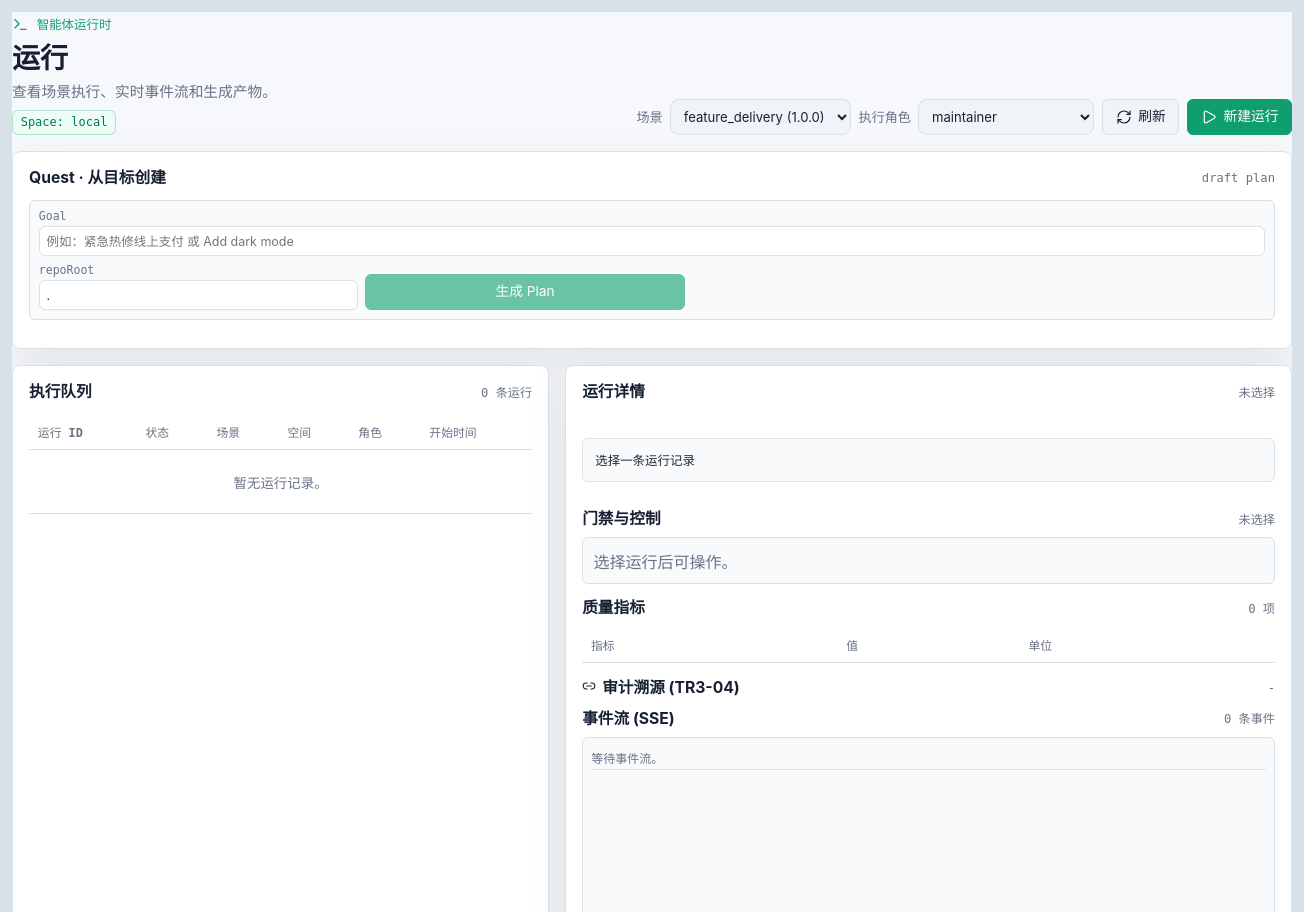
RunsPage › projects AGENT_TEMPLATE_NOT_APPROVED on create failure (P20)
This screenshot has width=1304, height=912.
Click the button with test id "runs-create".
click(1240, 117)  # box [1187,99,1292,135]
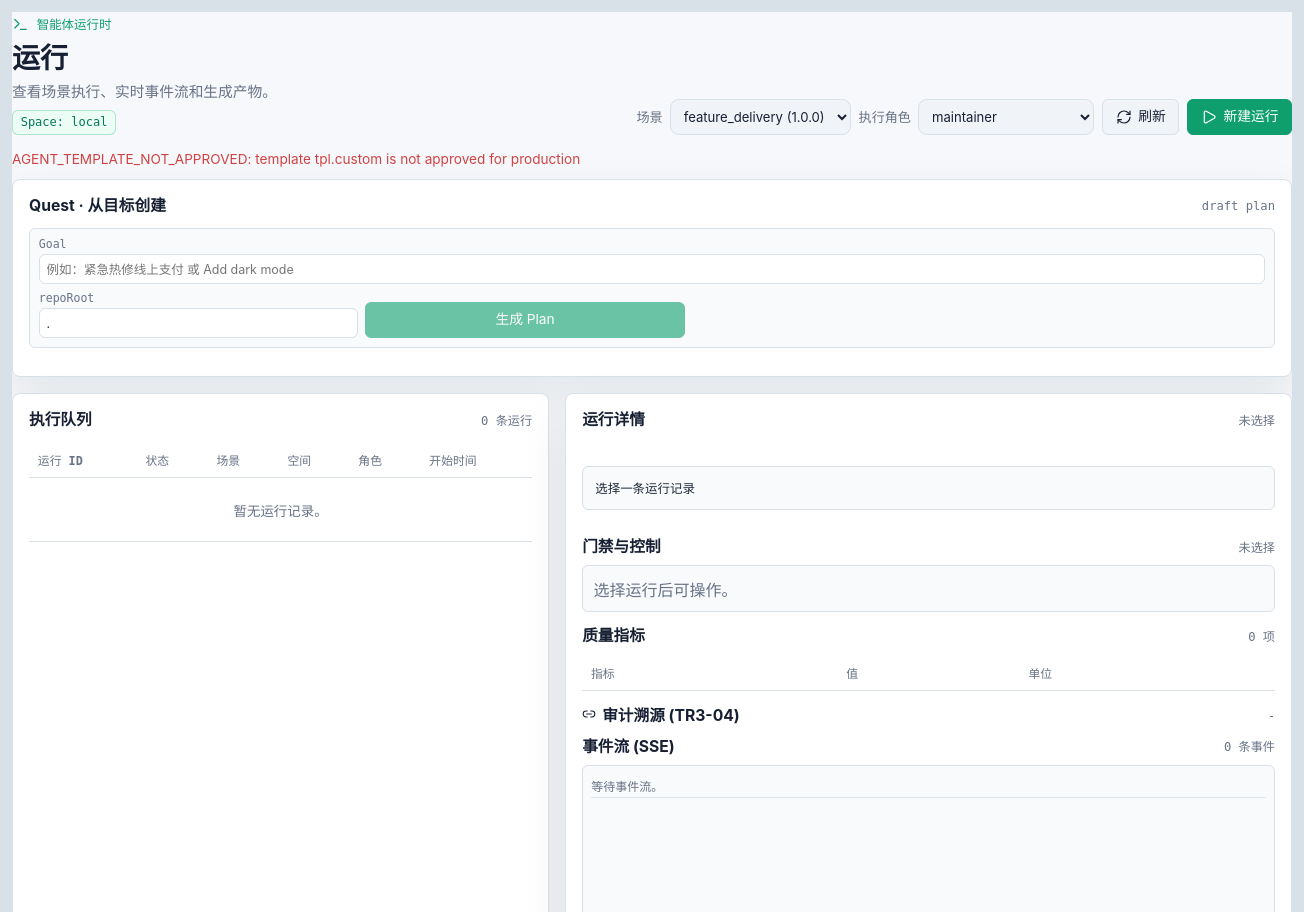
Now the text "AGENT_TEMPLATE_NOT_APPROVED: template tpl.custom is not approved for production" is shown, box [12,151,580,167]
